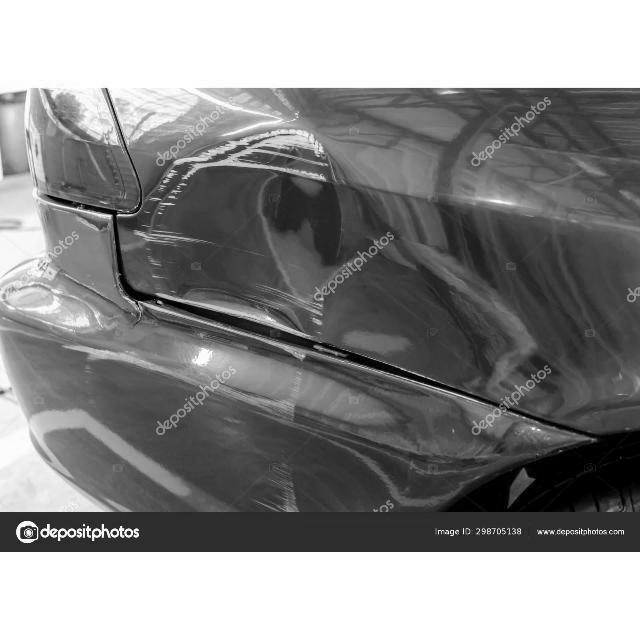quaterpanel-dent: (85, 91, 635, 408)
